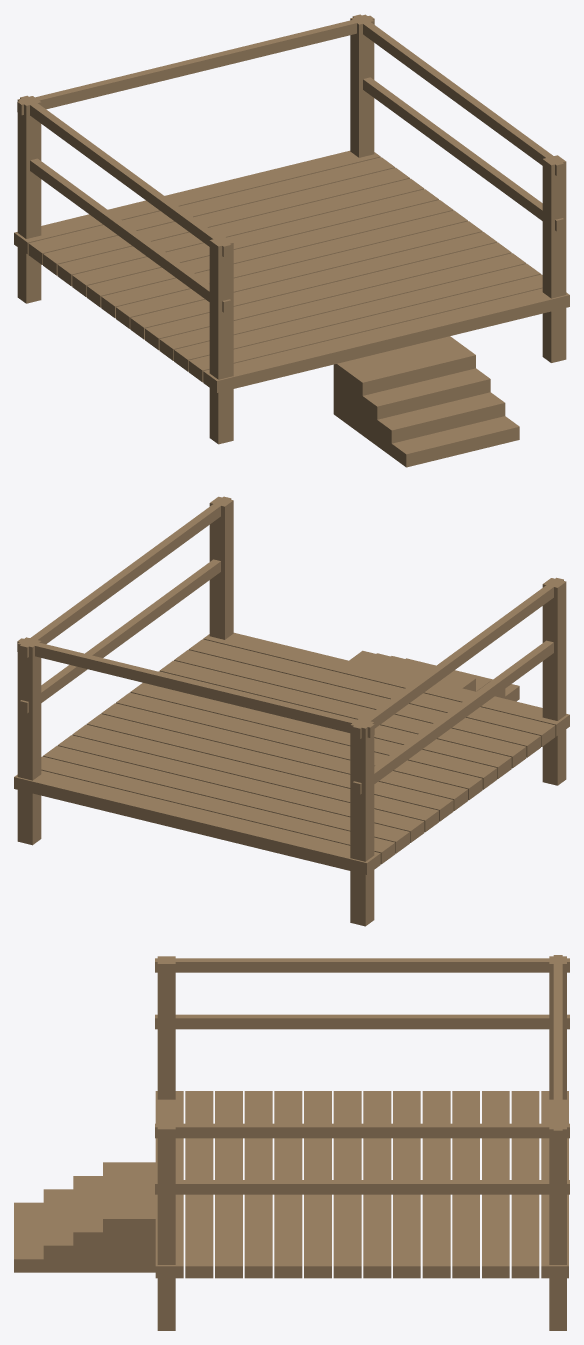
Rendered from zoo-and-safari-park-builder-viewing-platform-d4e7e669.glb.
3 views of the same model, one above another, from view 1: azimuth 30°, elevation 25°; view 2: azimuth 150°, elevation 25°; view 3: azimuth 270°, elevation 25° (orthographic).
Visible parts, largest first — view 1: viewing-platform; view 2: viewing-platform; view 3: viewing-platform.
Boxes of the visible parts, left/top/right/bottom form: viewing-platform: left=14, top=14, right=569, bottom=467; viewing-platform: left=14, top=496, right=569, bottom=926; viewing-platform: left=14, top=955, right=569, bottom=1330.
Bounding box in the file's own units: 2.8 × 1.5 × 3.75.
